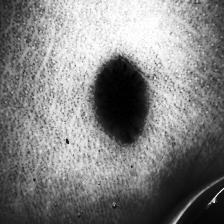Benign Marking or Mole: (95, 58, 145, 144)
